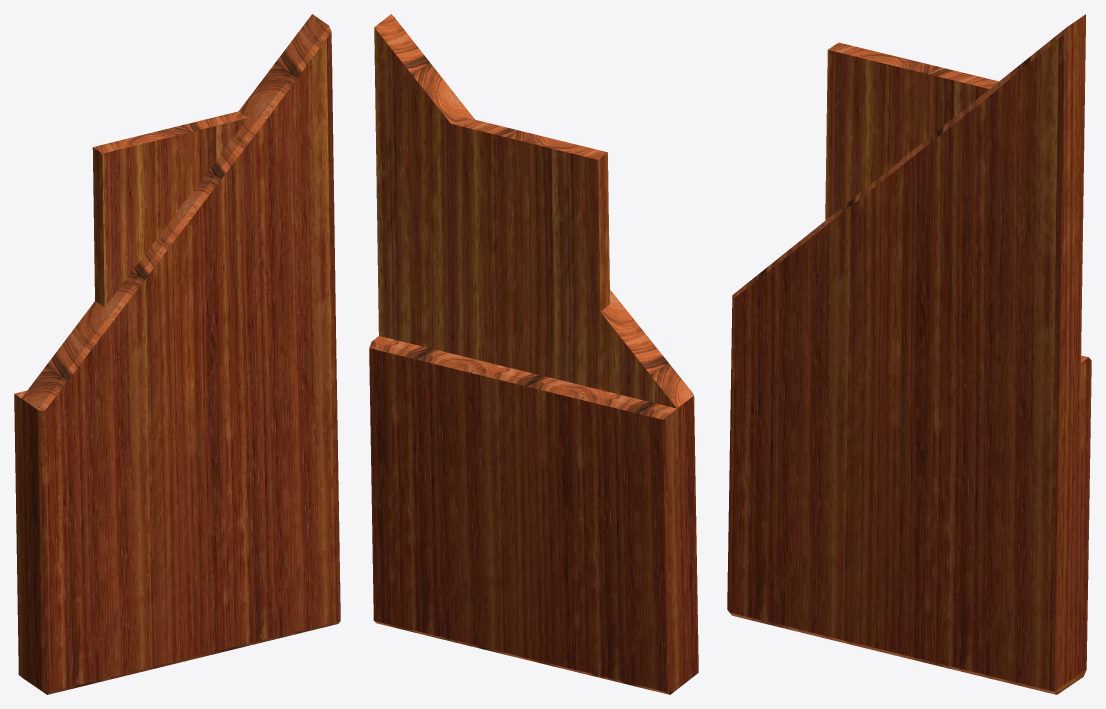
File: GMY_J_houyatou_01.FBX
3 views of the same model, side by side, from view 1: azimuth 30°, elevation 25°; view 2: azimuth 150°, elevation 25°; view 3: azimuth 330°, elevation 25° (orthographic). The views are drawn at different scales.
Visible parts, largest first — view 1: GMY_J_houyatou_01; view 2: GMY_J_houyatou_01; view 3: GMY_J_houyatou_01.
Boxes of the visible parts, box(x1,y1,x2,y2) form: GMY_J_houyatou_01: box(14, 14, 340, 694); GMY_J_houyatou_01: box(369, 14, 698, 694); GMY_J_houyatou_01: box(727, 14, 1091, 694).
Size of the model in its own units: 4.7 by 9.01 by 0.9251.
